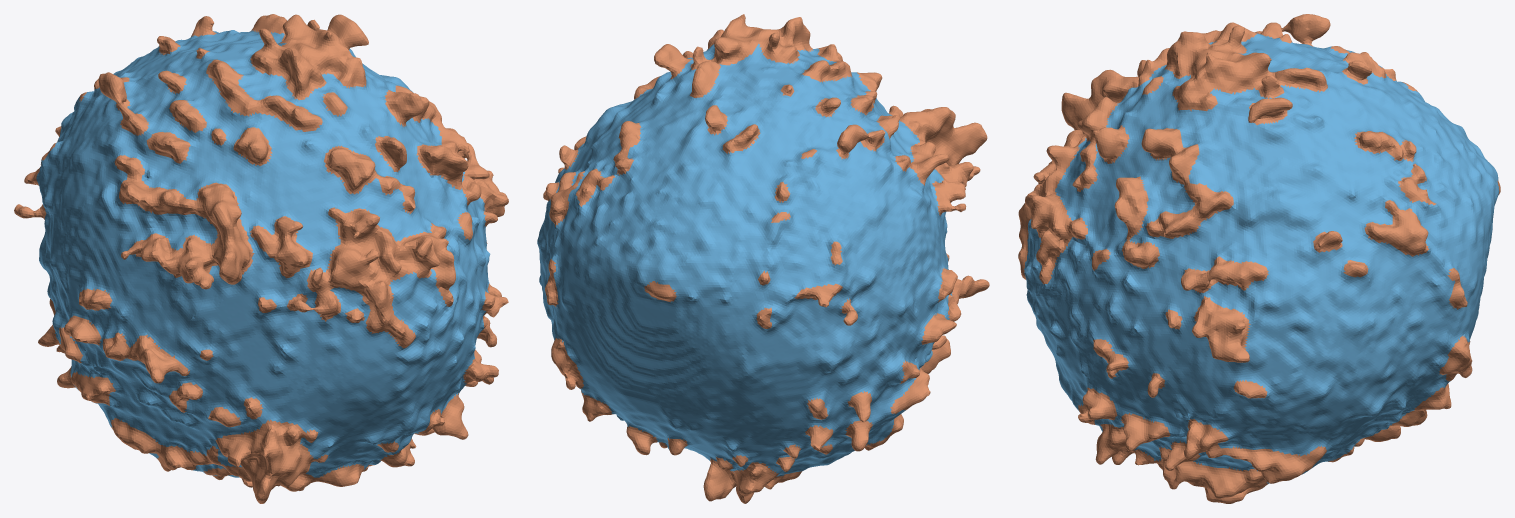
3 views of the same model, side by side, from view 1: azimuth 30°, elevation 25°; view 2: azimuth 150°, elevation 25°; view 3: azimuth 270°, elevation 25° (orthographic). The views are drawn at different scales.
Size of the model in its own units: 145 by 143 by 145.
